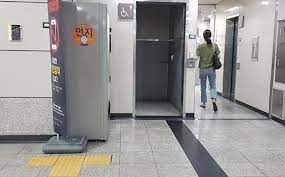guide_blocks: (26, 153, 110, 164), (46, 164, 84, 177)
